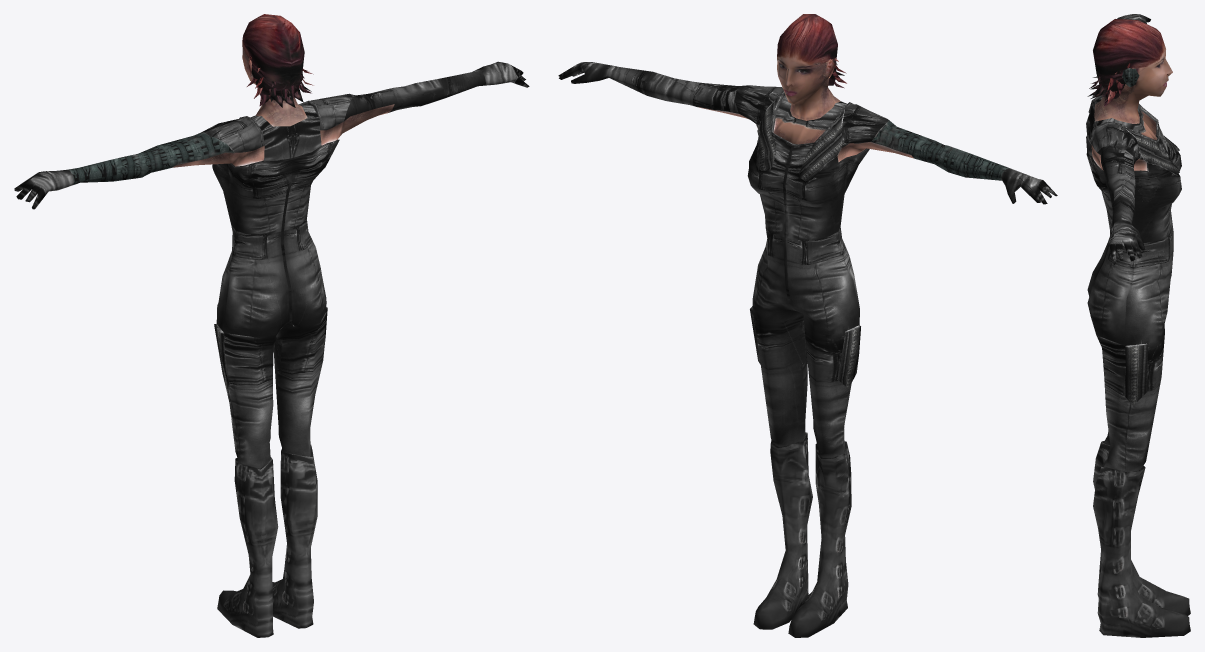
Rendered from mech_female_lod2.obj.
3 renders of one model, left to right at view 1: azimuth 30°, elevation 25°; view 2: azimuth 150°, elevation 25°; view 3: azimuth 270°, elevation 25°, orthographic. The views are drawn at different scales.
Visible parts, largest first — view 1: mechfemale; view 2: mechfemale; view 3: mechfemale.
Boxes of the visible parts, <box> form: mechfemale: <box>14,14,529,637</box>; mechfemale: <box>558,14,1057,637</box>; mechfemale: <box>1086,14,1190,637</box>.
Bounding box in the file's own units: 61.5 × 70.81 × 11.18.
